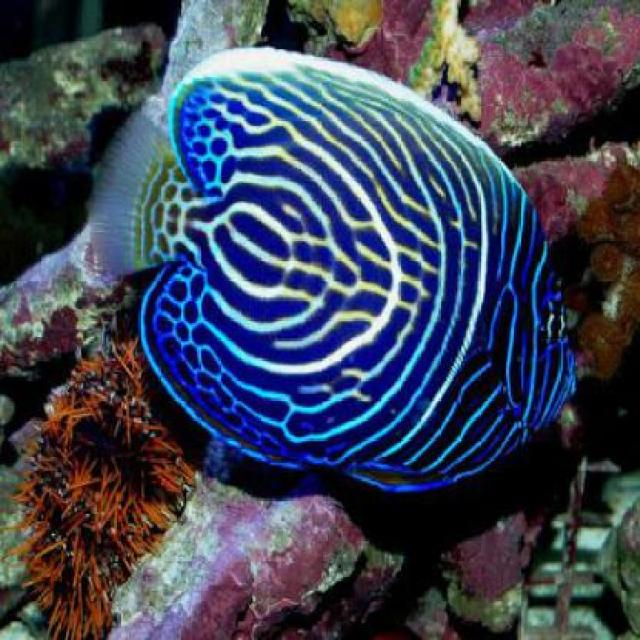AngelFish: (91, 48, 578, 494)
